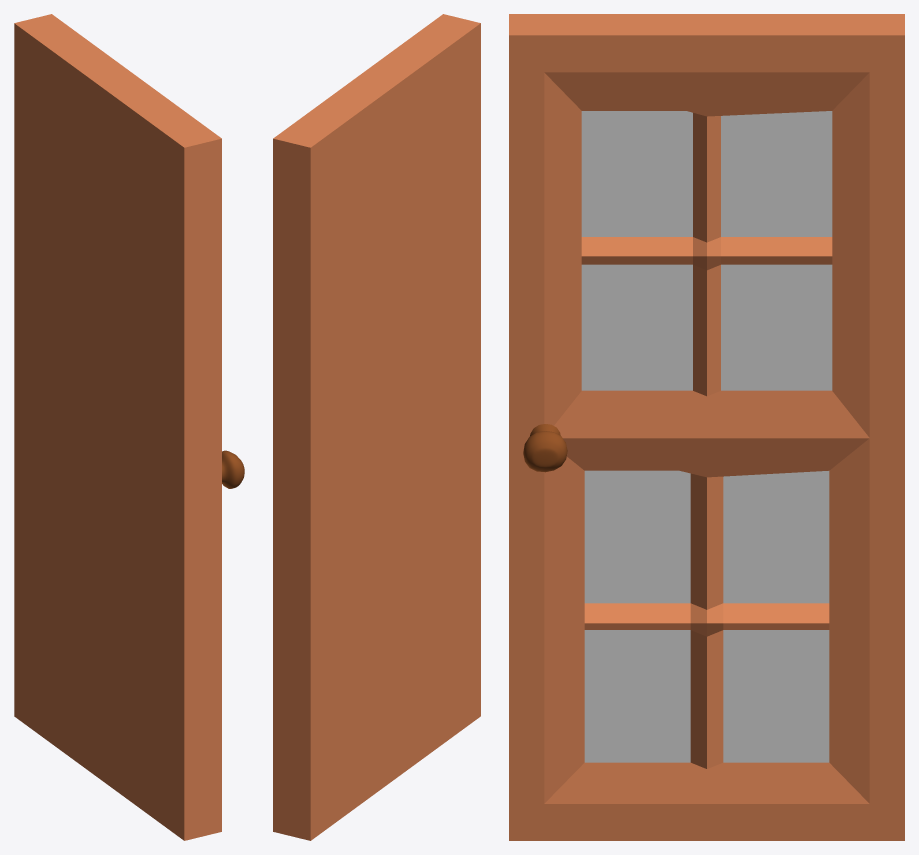
File: Door1.fbx
The picture shows the model from 3 angles, left to right: view 1: azimuth 30°, elevation 25°; view 2: azimuth 150°, elevation 25°; view 3: azimuth 270°, elevation 25°; orthographic projection. The views are drawn at different scales.
Parts seen in each view (by area): view 1: Cube, Cube.004, Cube.003; view 2: Cube, Cube.004; view 3: Cube, Cube.002, Cube.001, Cube.004, Cube.003.
Part boxes in pixels (x1,y1,x2,y2): Cube: (14, 14, 221, 840); Cube.004: (14, 15, 221, 839); Cube.003: (222, 450, 244, 488); Cube: (273, 14, 480, 840); Cube.004: (273, 16, 480, 839); Cube: (509, 14, 904, 840); Cube.002: (584, 470, 829, 762); Cube.001: (581, 111, 832, 390); Cube.004: (509, 14, 904, 840); Cube.003: (523, 424, 567, 472).
Size of the model in its own units: 95.98 by 894 by 398.
